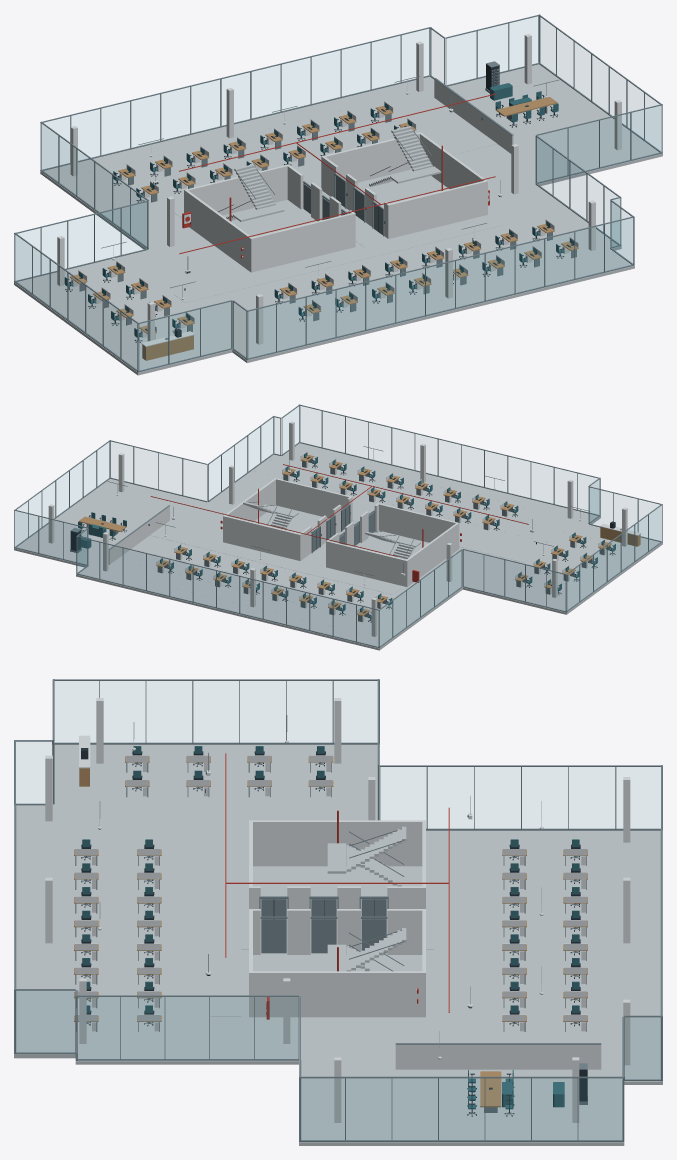
The picture shows the model from 3 angles, top to bottom: view 1: azimuth 30°, elevation 25°; view 2: azimuth 150°, elevation 25°; view 3: azimuth 270°, elevation 25°; orthographic projection. The views are drawn at different scales.
Visible parts, largest first — view 1: T1_F05_SLAB, T1_F05_WHITE, T1_F05_GLASS_S, T1_F05_GLASS_N, T1_F05_STEEL, T1_F05_GLASS_W, T1_F05_GLASS_E, T1_F05_WOOD, T1_F05_FABRIC, T1_F05_DARK, T1_F05_RED, T1_F05_SCREEN; view 2: T1_F05_SLAB, T1_F05_WHITE, T1_F05_GLASS_N, T1_F05_STEEL, T1_F05_GLASS_S, T1_F05_GLASS_W, T1_F05_GLASS_E, T1_F05_WOOD, T1_F05_DARK, T1_F05_FABRIC, T1_F05_RED, T1_F05_SCREEN; view 3: T1_F05_SLAB, T1_F05_WHITE, T1_F05_GLASS_E, T1_F05_GLASS_W, T1_F05_STEEL, T1_F05_FABRIC, T1_F05_WOOD, T1_F05_DARK, T1_F05_RED.
Boxes of the visible parts, bbox=[...] form: T1_F05_SLAB: bbox=[14, 64, 662, 375]; T1_F05_WHITE: bbox=[57, 34, 621, 346]; T1_F05_GLASS_S: bbox=[140, 106, 660, 370]; T1_F05_GLASS_N: bbox=[19, 17, 538, 267]; T1_F05_STEEL: bbox=[14, 14, 662, 372]; T1_F05_GLASS_W: bbox=[15, 125, 245, 369]; T1_F05_GLASS_E: bbox=[431, 18, 657, 243]; T1_F05_WOOD: bbox=[70, 97, 578, 360]; T1_F05_FABRIC: bbox=[64, 83, 563, 337]; T1_F05_DARK: bbox=[65, 64, 574, 342]; T1_F05_RED: bbox=[179, 93, 496, 258]; T1_F05_SCREEN: bbox=[79, 75, 573, 319]; T1_F05_SLAB: bbox=[14, 443, 662, 650]; T1_F05_WHITE: bbox=[48, 421, 641, 636]; T1_F05_GLASS_N: bbox=[15, 512, 564, 646]; T1_F05_STEEL: bbox=[14, 404, 662, 648]; T1_F05_GLASS_S: bbox=[110, 406, 657, 527]; T1_F05_GLASS_W: bbox=[380, 480, 661, 645]; T1_F05_GLASS_E: bbox=[18, 408, 298, 536]; T1_F05_WOOD: bbox=[78, 454, 640, 616]; T1_F05_DARK: bbox=[70, 453, 615, 622]; T1_F05_FABRIC: bbox=[78, 456, 615, 618]; T1_F05_RED: bbox=[150, 464, 528, 582]; T1_F05_SCREEN: bbox=[160, 453, 604, 611]; T1_F05_SLAB: bbox=[14, 744, 662, 1145]; T1_F05_WHITE: bbox=[45, 698, 630, 1122]; T1_F05_GLASS_E: bbox=[16, 991, 660, 1139]; T1_F05_GLASS_W: bbox=[16, 681, 660, 828]; T1_F05_STEEL: bbox=[14, 679, 662, 1141]; T1_F05_FABRIC: bbox=[82, 746, 579, 1109]; T1_F05_WOOD: bbox=[74, 756, 587, 1107]; T1_F05_DARK: bbox=[81, 748, 587, 1116]; T1_F05_RED: bbox=[225, 753, 449, 1019].
Size of the model in its own units: 55.47 by 4.5 by 38.19.
